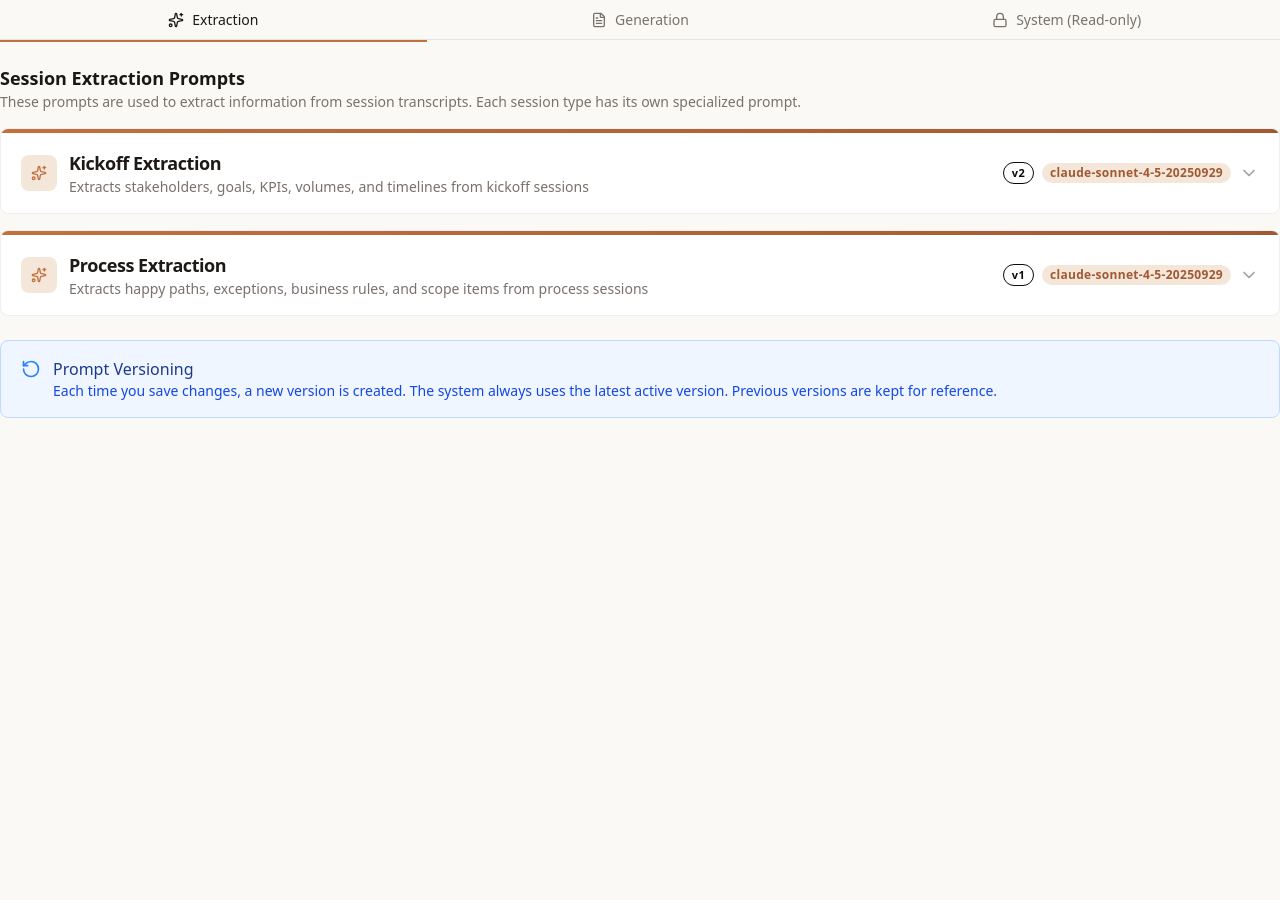
Scenario: PromptManager › shows system prompts on the System tab
Step 1. Click the tab "System (Read-only)" → (1067, 21), box [853,0,1279,42]
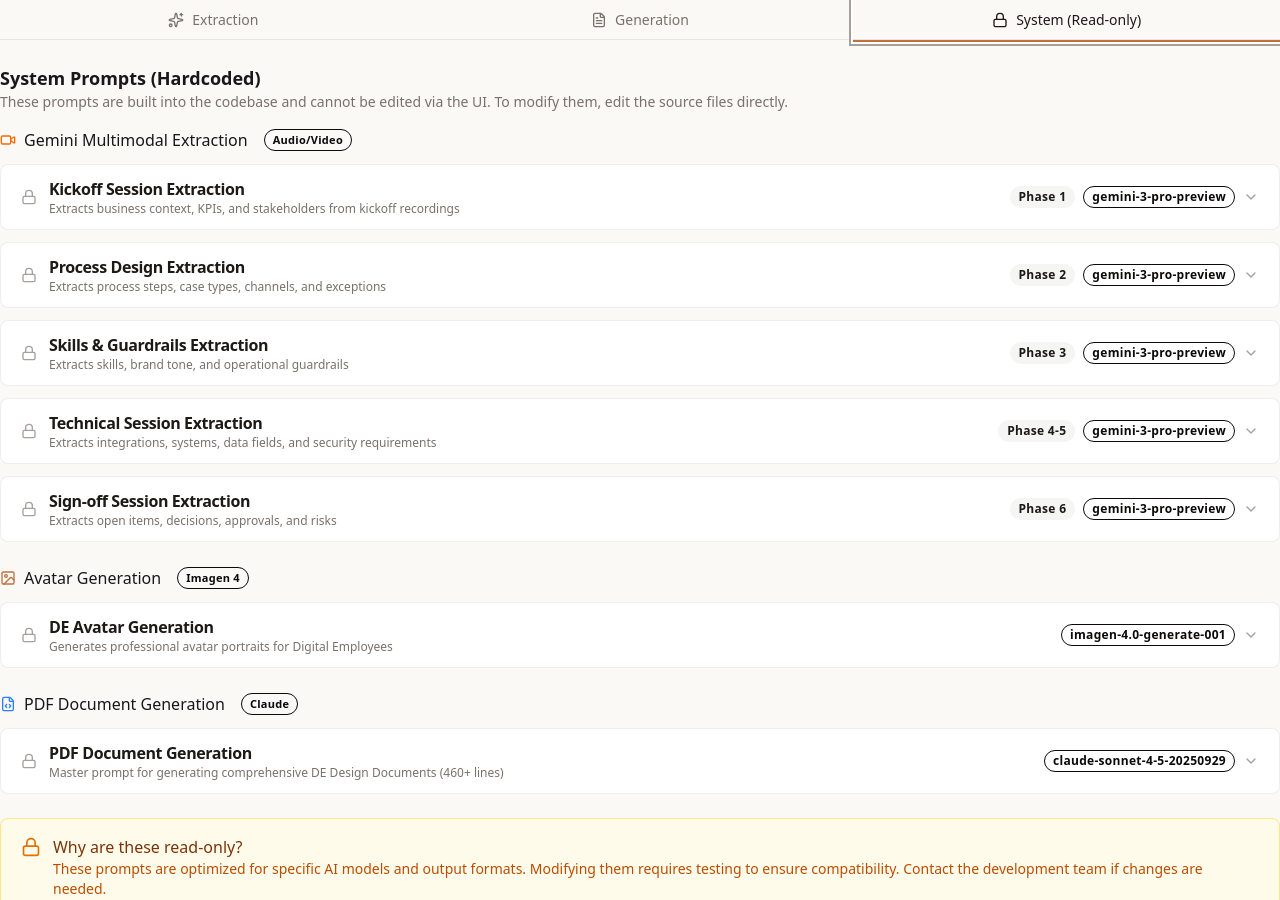
Check: the heading "System Prompts (Hardcoded)" is shown, box [0,66,261,90]
Check: the heading "Gemini Multimodal Extraction Audio/Video" is shown, box [0,129,352,151]
Check: the heading "Kickoff Session Extraction" is shown, box [49,178,245,200]
